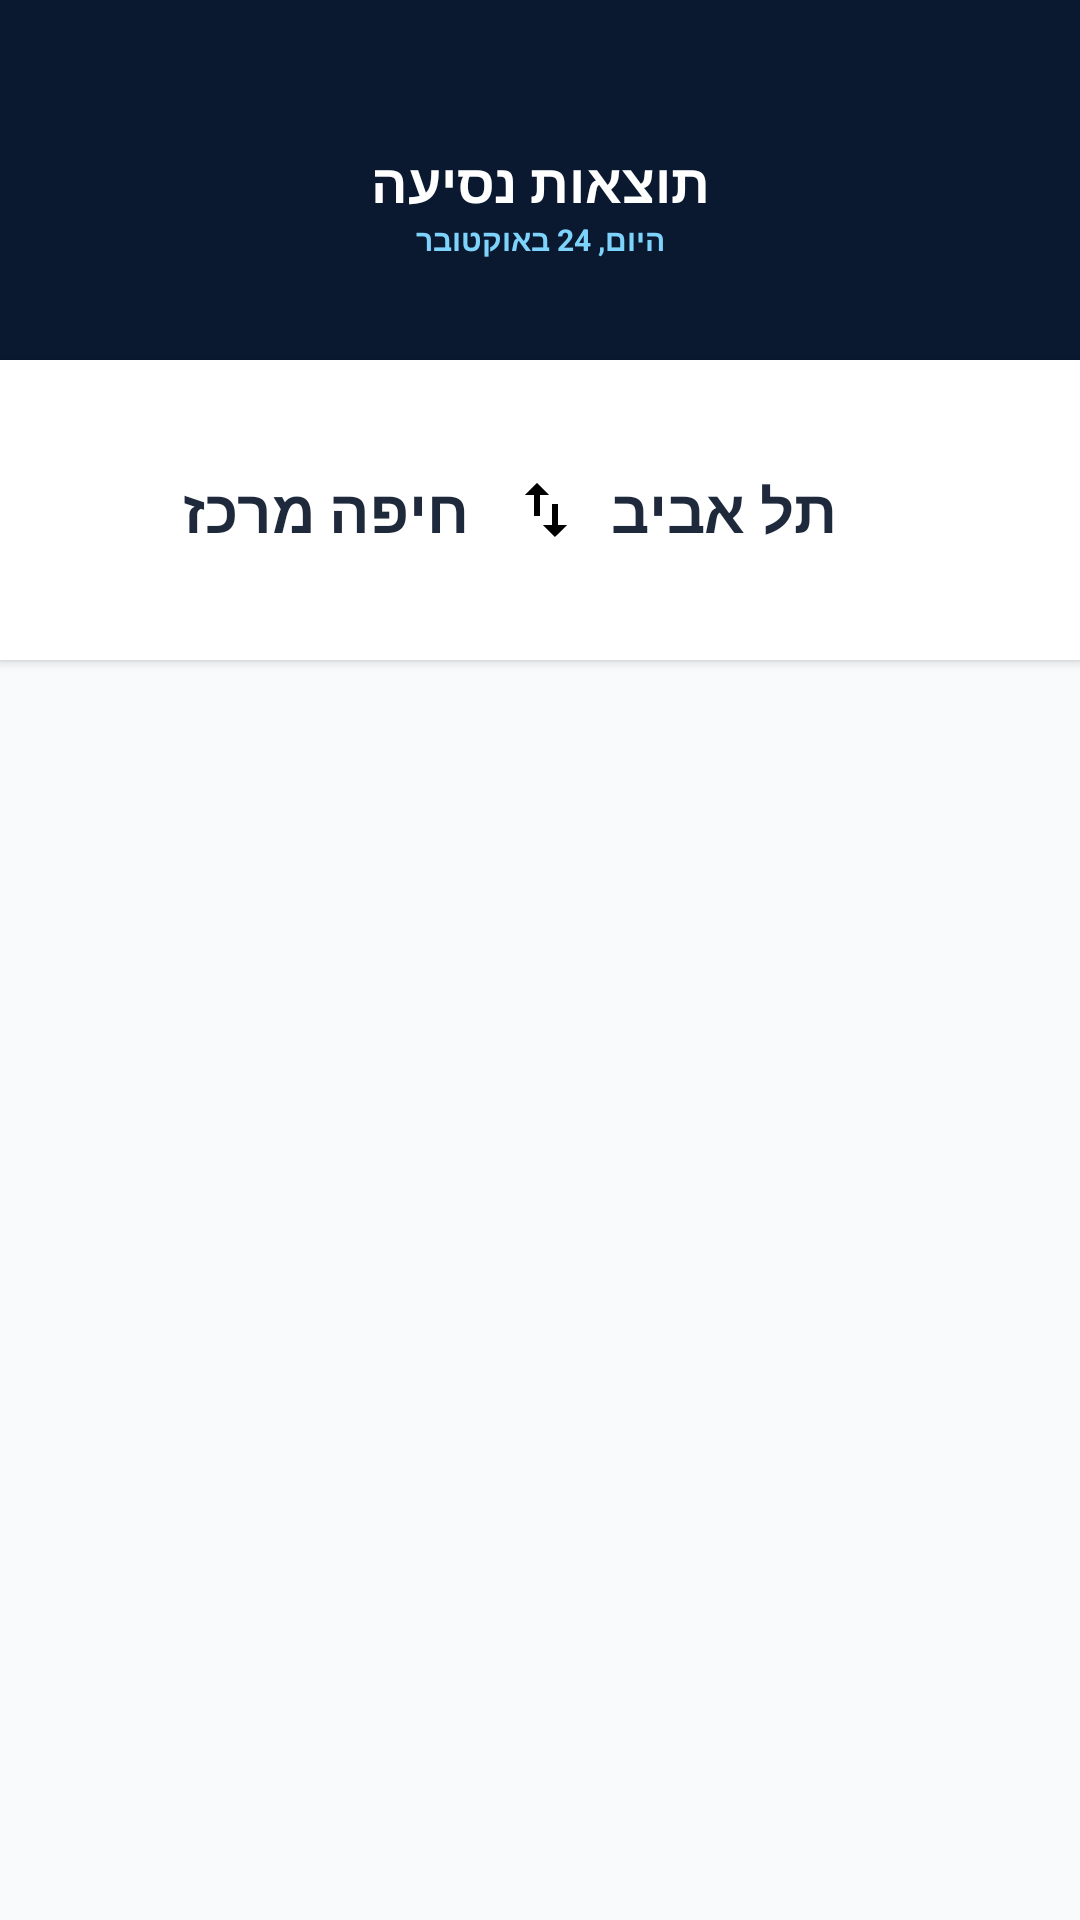

Where icons sit on this 1080w x 1920h app screen, as (x1,y1,x2,y2):
swap: (525,483,567,537)
